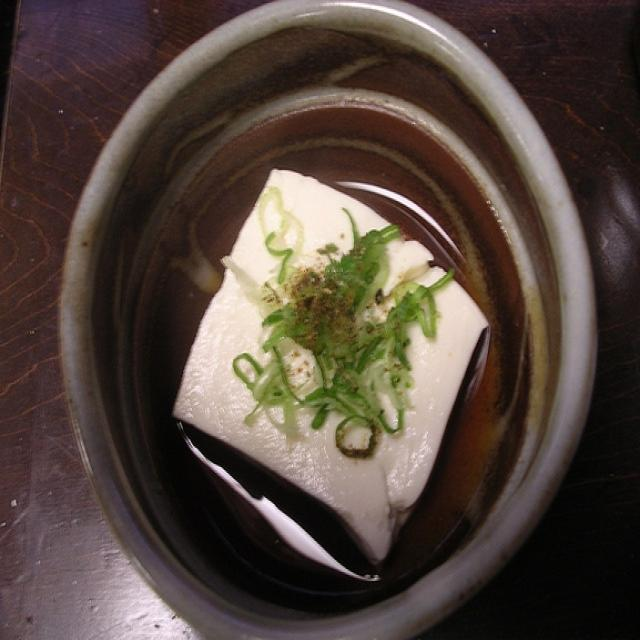豆腐料理: (30, 2, 616, 634)
